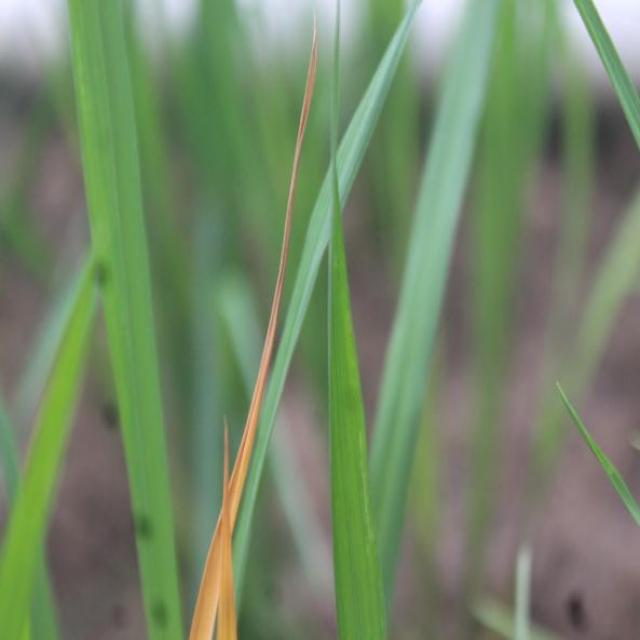Tungro: (186, 16, 320, 640)
